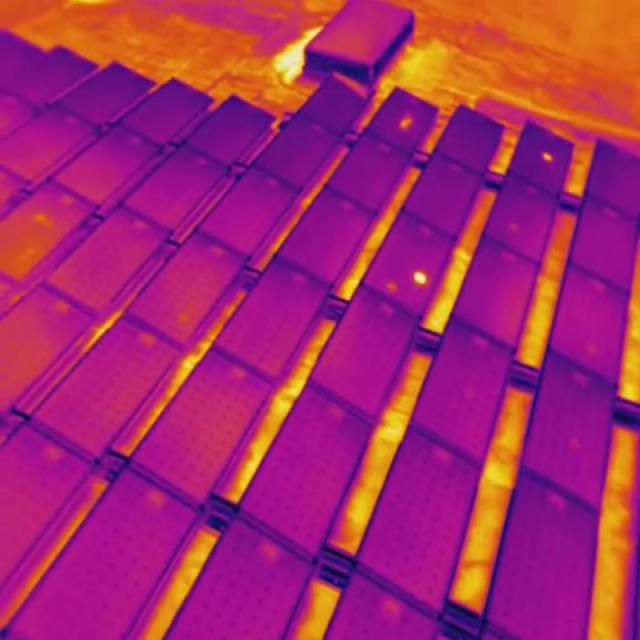Orange-Spots: (412, 270, 428, 284), (401, 115, 414, 129), (386, 278, 397, 293), (542, 151, 554, 161)
